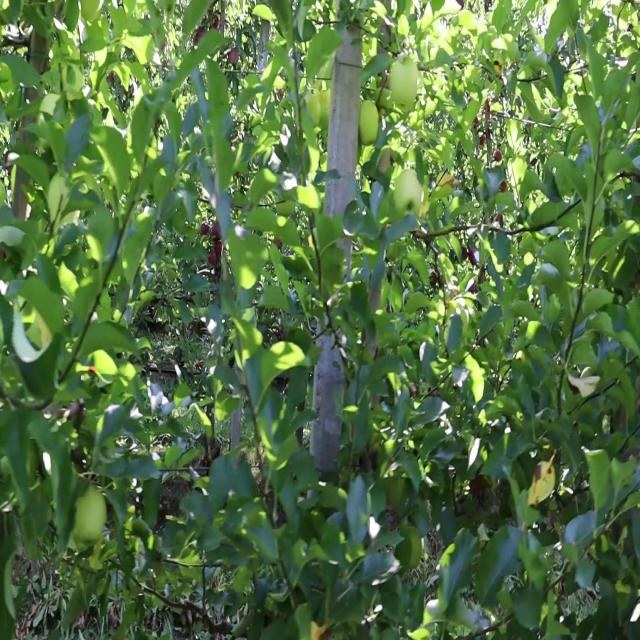apple: (240, 270, 258, 292), (212, 241, 224, 267), (464, 248, 477, 267), (196, 28, 207, 44), (468, 248, 477, 267), (232, 49, 240, 64), (480, 135, 488, 149), (212, 21, 220, 30), (496, 156, 502, 164)
